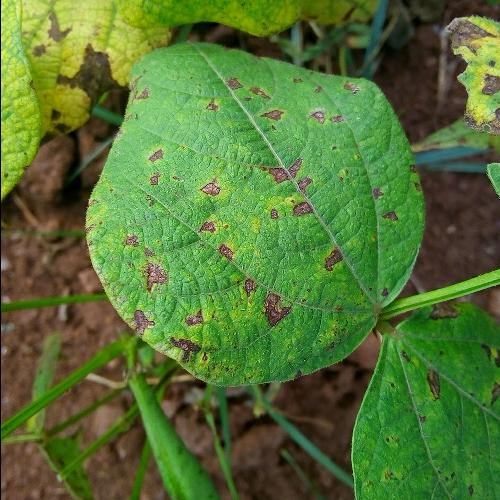hawar: (253, 105, 337, 286), (123, 243, 221, 371), (114, 126, 224, 219), (198, 192, 262, 307), (248, 250, 301, 356), (364, 173, 414, 237), (228, 70, 268, 112), (128, 70, 158, 112), (194, 98, 224, 122)
